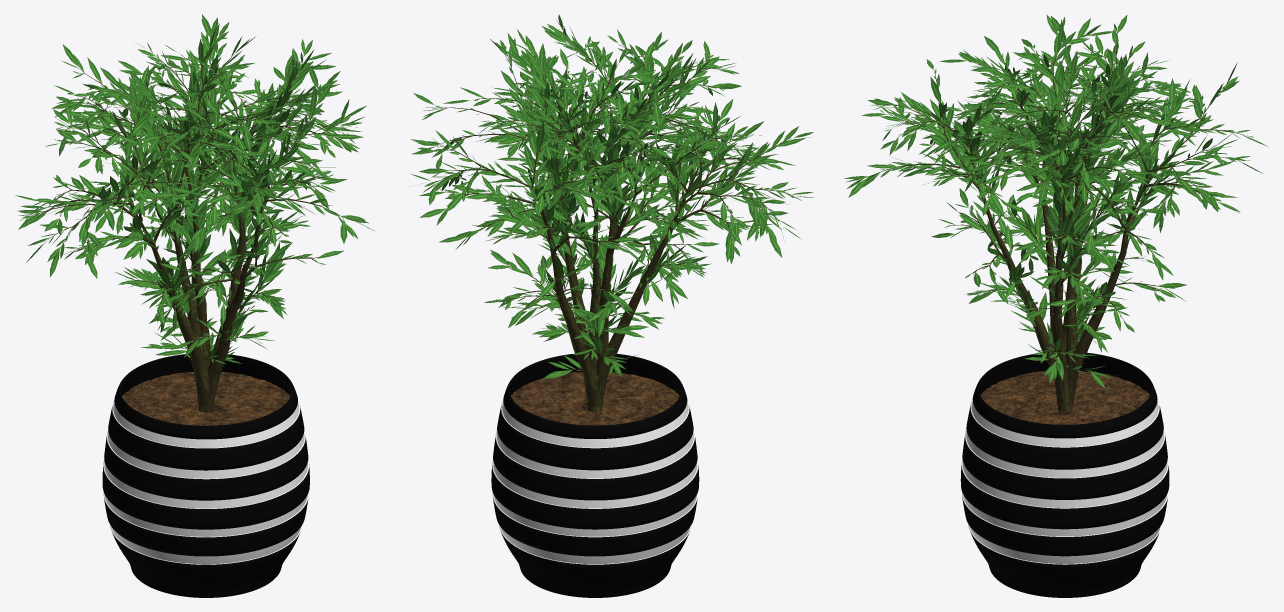
The model's file is flowerpot.glb.
3 renders of one model, left to right at view 1: azimuth 30°, elevation 25°; view 2: azimuth 150°, elevation 25°; view 3: azimuth 270°, elevation 25°, orthographic.
Parts seen in each view (by area): view 1: leaves.001, Cylinder.002, tree.003, Cylinder.006; view 2: leaves.001, Cylinder.002, tree.003, Cylinder.006; view 3: leaves.001, Cylinder.002, tree.003, Cylinder.006.
Boxes of the visible parts, x1=… form: leaves.001: x1=15, y1=14, x2=374, y2=364; Cylinder.002: x1=102, y1=354, x2=309, y2=597; tree.003: x1=26, y1=49, x2=345, y2=412; Cylinder.006: x1=122, y1=372, x2=290, y2=425; leaves.001: x1=411, y1=14, x2=814, y2=379; Cylinder.002: x1=491, y1=353, x2=699, y2=597; tree.003: x1=435, y1=32, x2=792, y2=412; Cylinder.006: x1=511, y1=371, x2=679, y2=425; leaves.001: x1=844, y1=14, x2=1268, y2=388; Cylinder.002: x1=960, y1=352, x2=1169, y2=597; tree.003: x1=869, y1=33, x2=1244, y2=411; Cylinder.006: x1=980, y1=370, x2=1149, y2=424.
Bounding box in the file's own units: 419 × 577 × 430.
Materials: 5 (3 with a texture image).
